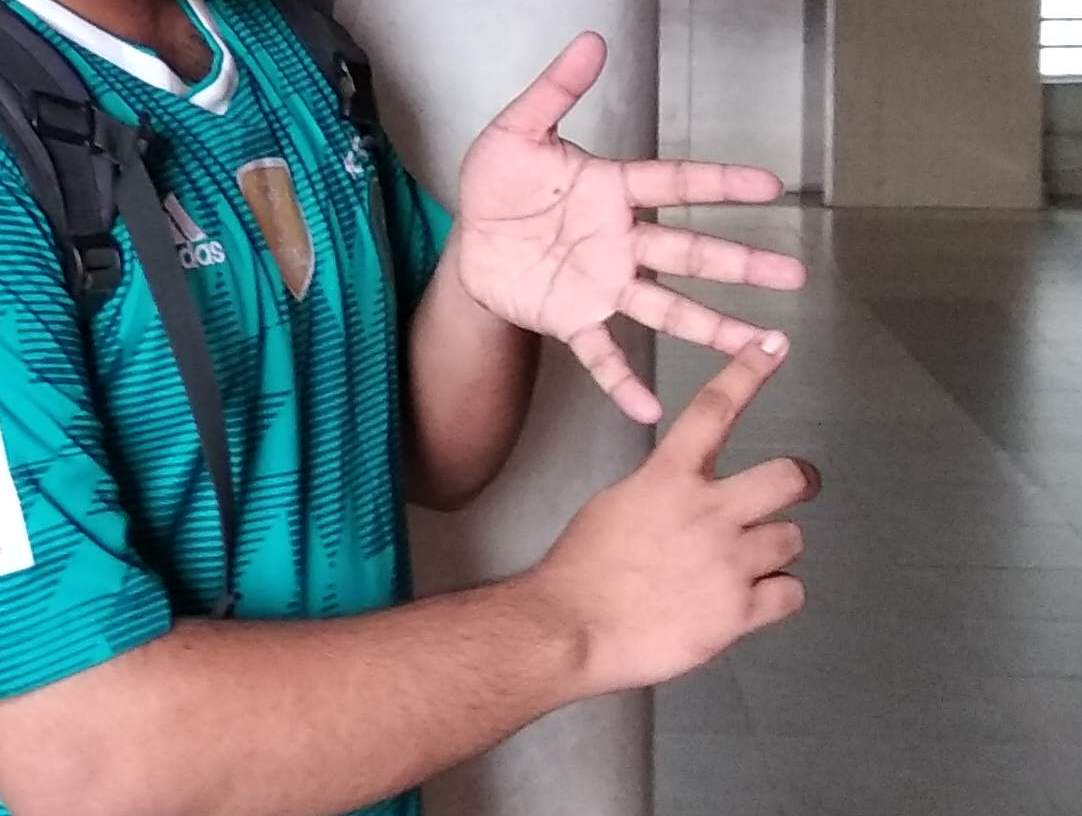e: (530, 147, 831, 662)
